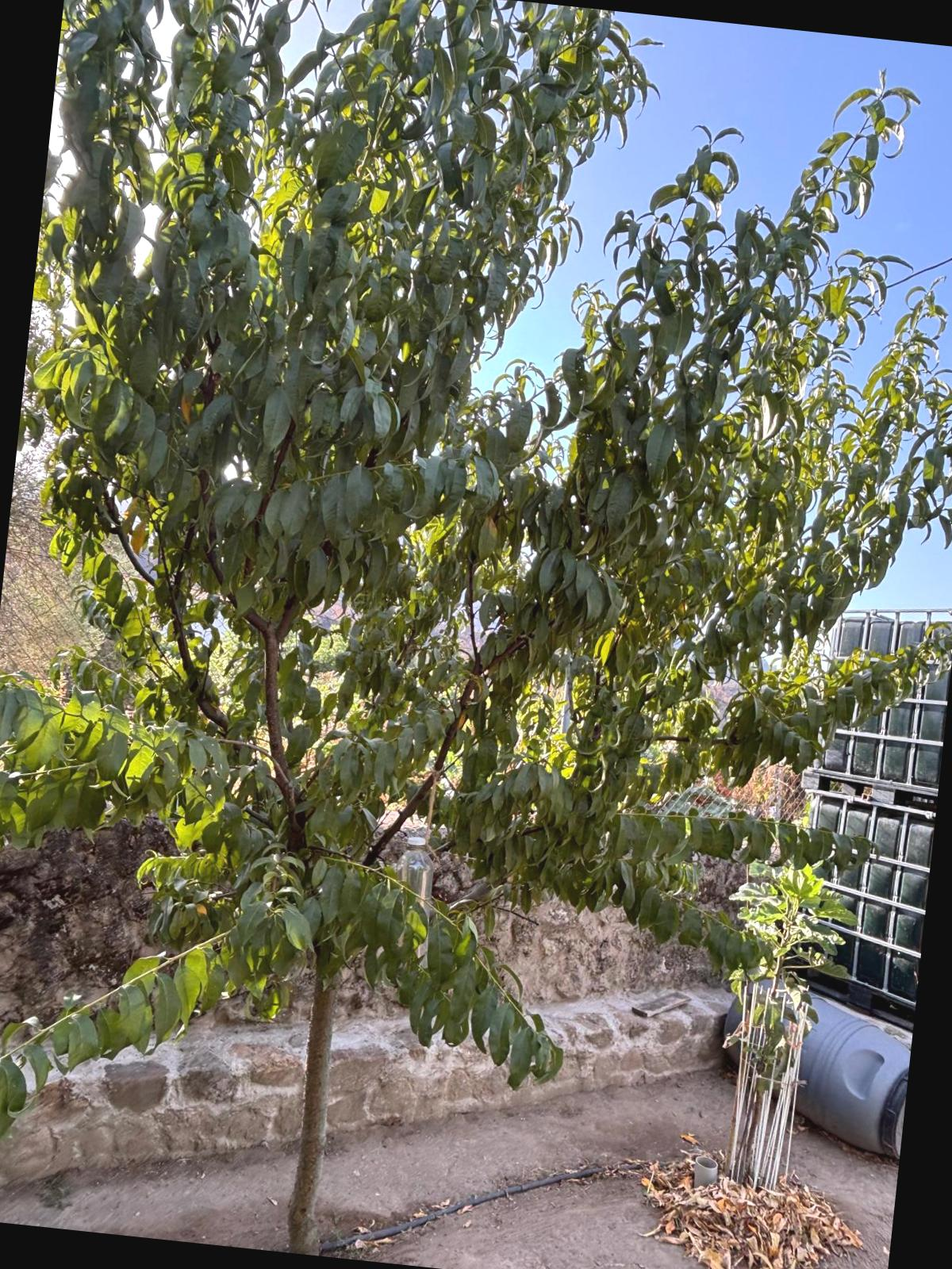melocotonero: (2, 113, 758, 1261)
